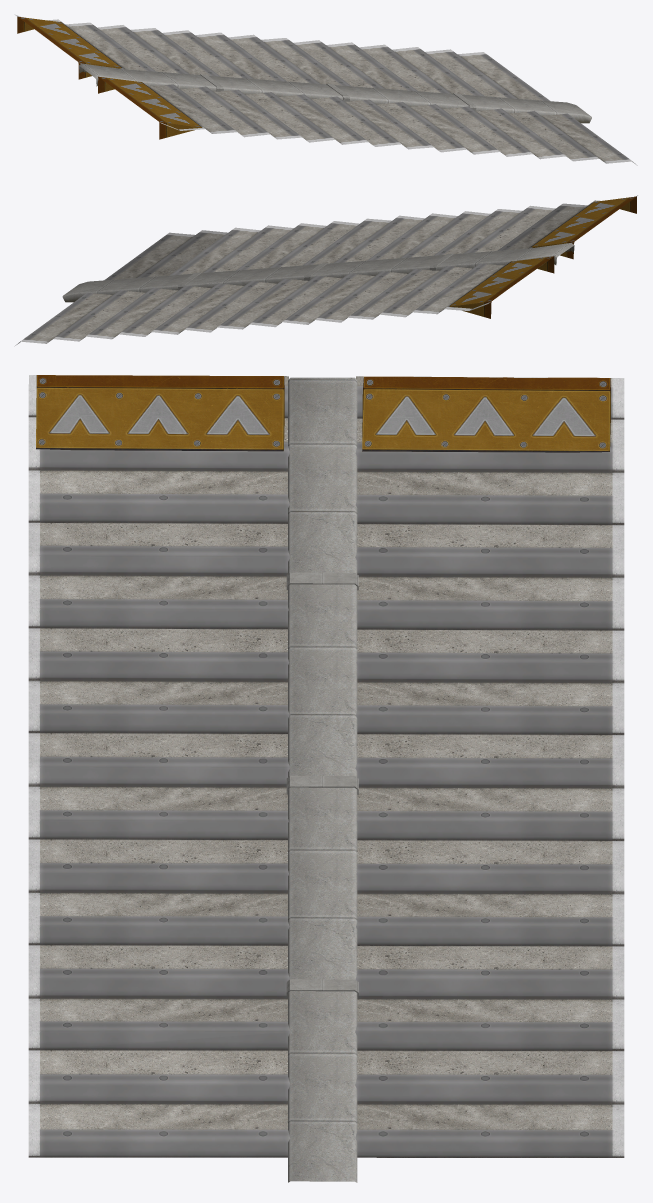
The model's file is super_bell_subway_checkpoint.glb.
3 views of the same model, one above another, from view 1: azimuth 30°, elevation 25°; view 2: azimuth 150°, elevation 25°; view 3: azimuth 270°, elevation 25° (orthographic). The views are drawn at different scales.
Visible parts, largest first — view 1: Object_36, Object_34; view 2: Object_36, Object_34; view 3: Object_36, Object_34.
Part boxes in pixels (left/top/right/bottom): Object_36: left=14, top=14, right=637, bottom=165; Object_34: left=17, top=16, right=591, bottom=139; Object_36: left=15, top=195, right=637, bottom=345; Object_34: left=62, top=196, right=636, bottom=318; Object_36: left=28, top=375, right=624, bottom=1157; Object_34: left=36, top=375, right=610, bottom=1182.
Size of the model in its own units: 10.82 by 3.48 by 5.63.
2 materials, 2 textured.
